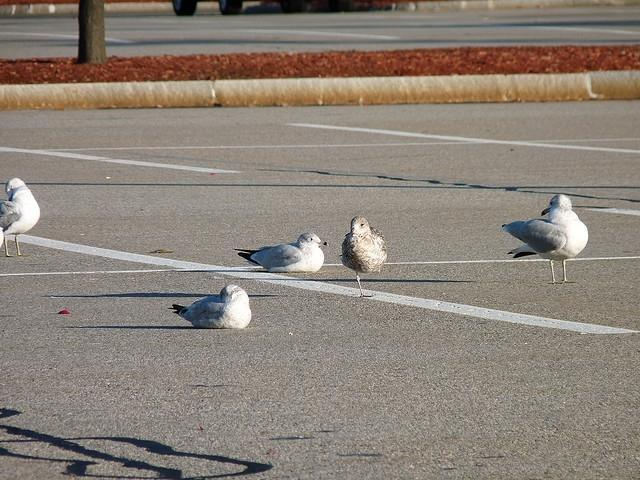car: (166, 0, 310, 21)
